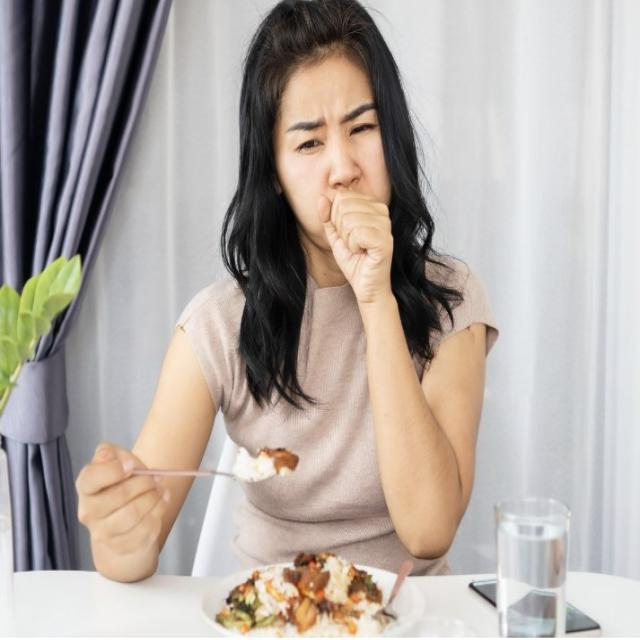eating-person: (72, 0, 573, 640)
